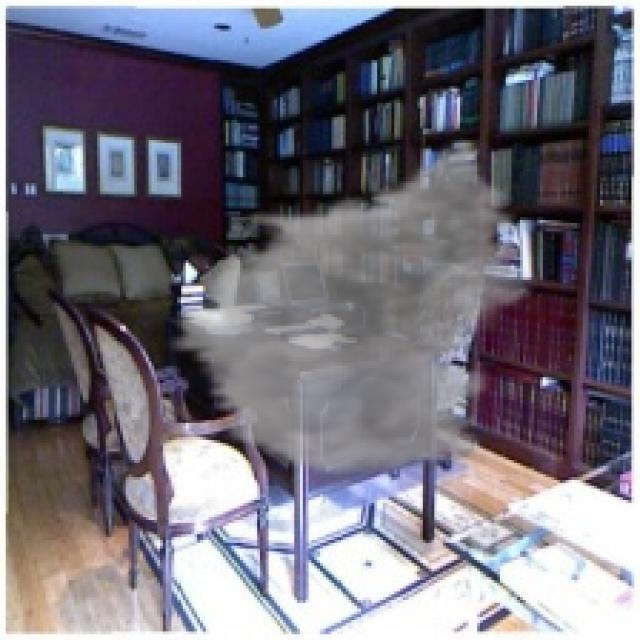Smoke: (160, 134, 543, 480)
